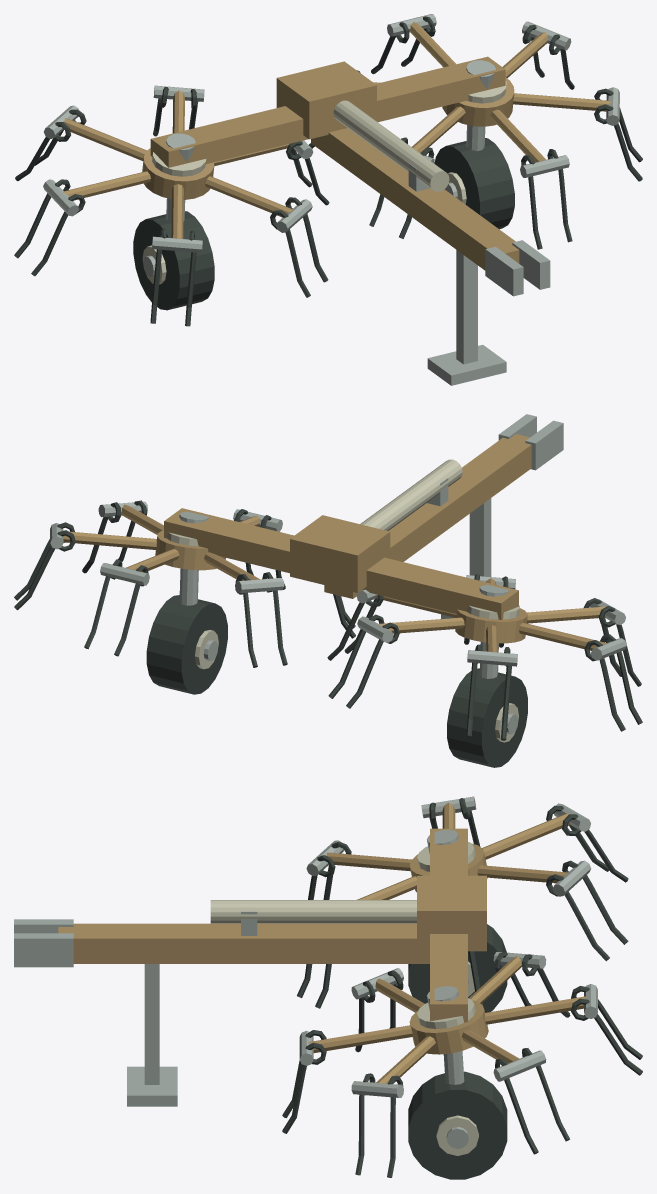
The picture shows the model from 3 angles, top to bottom: view 1: azimuth 30°, elevation 25°; view 2: azimuth 150°, elevation 25°; view 3: azimuth 270°, elevation 25°; orthographic projection. The views are drawn at different scales.
Visible parts, largest first — view 1: WholeTransverseDriveSupportBeam, WholeLongCentralForwardDrawFrame, WholeCentralGearCover, WholeSmallUnderRotorWheel-1, WholeSmallUnderRotorWheel1, WholeShortInputShaftShield, WholeUprightParkingProp, WholeFrontParkingSole, WholePitchedSmallRotorDrum-1, WholeEmptyHitchSideLug-1, WholePitchedSmallRotorDrum1, WholeEmptyHitchSideLug1 (+21 smaller); view 2: WholeTransverseDriveSupportBeam, WholeLongCentralForwardDrawFrame, WholeSmallUnderRotorWheel1, WholeCentralGearCover, WholeSmallUnderRotorWheel-1, WholeShortInputShaftShield, WholeUprightParkingProp, WholePitchedSmallRotorDrum-1, WholeEmptyHitchSideLug-1, WholePitchedSmallRotorDrum1, WholeShortRadialArm1_0, WholeShortRadialArm-1_3 (+23 smaller); view 3: WholeLongCentralForwardDrawFrame, WholeSmallUnderRotorWheel1, WholeShortInputShaftShield, WholeCentralGearCover, WholeTransverseDriveSupportBeam, WholeEmptyHitchSideLug1, WholeSmallUnderRotorWheel-1, WholeUprightParkingProp, WholeFrontParkingSole, WholePitchedSmallRotorDrum1, WholeShortRadialArm1_4, WholeShortRadialArm1_1 (+25 smaller).
Part boxes in pixels (bbox=[...]): WholeTransverseDriveSupportBeam: bbox=[150, 56, 505, 167]; WholeLongCentralForwardDrawFrame: bbox=[311, 128, 519, 270]; WholeCentralGearCover: bbox=[276, 61, 376, 139]; WholeSmallUnderRotorWheel-1: bbox=[133, 211, 214, 310]; WholeSmallUnderRotorWheel1: bbox=[434, 138, 514, 229]; WholeShortInputShaftShield: bbox=[333, 100, 449, 191]; WholeUprightParkingProp: bbox=[456, 250, 477, 364]; WholeFrontParkingSole: bbox=[427, 345, 506, 385]; WholePitchedSmallRotorDrum-1: bbox=[142, 148, 214, 199]; WholeEmptyHitchSideLug-1: bbox=[485, 246, 523, 296]; WholePitchedSmallRotorDrum1: bbox=[442, 77, 514, 126]; WholeEmptyHitchSideLug1: bbox=[512, 240, 550, 289]; WholeTransverseDriveSupportBeam: bbox=[164, 508, 518, 619]; WholeLongCentralForwardDrawFrame: bbox=[324, 434, 531, 598]; WholeSmallUnderRotorWheel1: bbox=[146, 595, 227, 694]; WholeCentralGearCover: bbox=[290, 515, 390, 592]; WholeSmallUnderRotorWheel-1: bbox=[447, 668, 527, 767]; WholeShortInputShaftShield: bbox=[360, 459, 462, 530]; WholeUprightParkingProp: bbox=[469, 498, 491, 576]; WholePitchedSmallRotorDrum-1: bbox=[455, 608, 527, 643]; WholeEmptyHitchSideLug-1: bbox=[525, 420, 563, 470]; WholePitchedSmallRotorDrum1: bbox=[155, 530, 225, 570]; WholeShortRadialArm1_0: bbox=[60, 531, 156, 549]; WholeShortRadialArm-1_3: bbox=[519, 623, 606, 650]; WholeLongCentralForwardDrawFrame: bbox=[58, 923, 429, 963]; WholeSmallUnderRotorWheel1: bbox=[408, 1071, 507, 1179]; WholeShortInputShaftShield: bbox=[210, 900, 416, 923]; WholeCentralGearCover: bbox=[417, 875, 486, 951]; WholeTransverseDriveSupportBeam: bbox=[430, 828, 467, 1022]; WholeEmptyHitchSideLug1: bbox=[14, 933, 73, 967]; WholeSmallUnderRotorWheel-1: bbox=[408, 924, 507, 1012]; WholeUprightParkingProp: bbox=[144, 964, 159, 1084]; WholeFrontParkingSole: bbox=[127, 1066, 177, 1106]; WholePitchedSmallRotorDrum1: bbox=[409, 1000, 488, 1054]; WholeShortRadialArm1_4: bbox=[308, 1025, 412, 1052]; WholeShortRadialArm1_1: bbox=[484, 996, 586, 1024].
Bounding box in the file's own units: 2.85 × 0.865 × 2.48.
